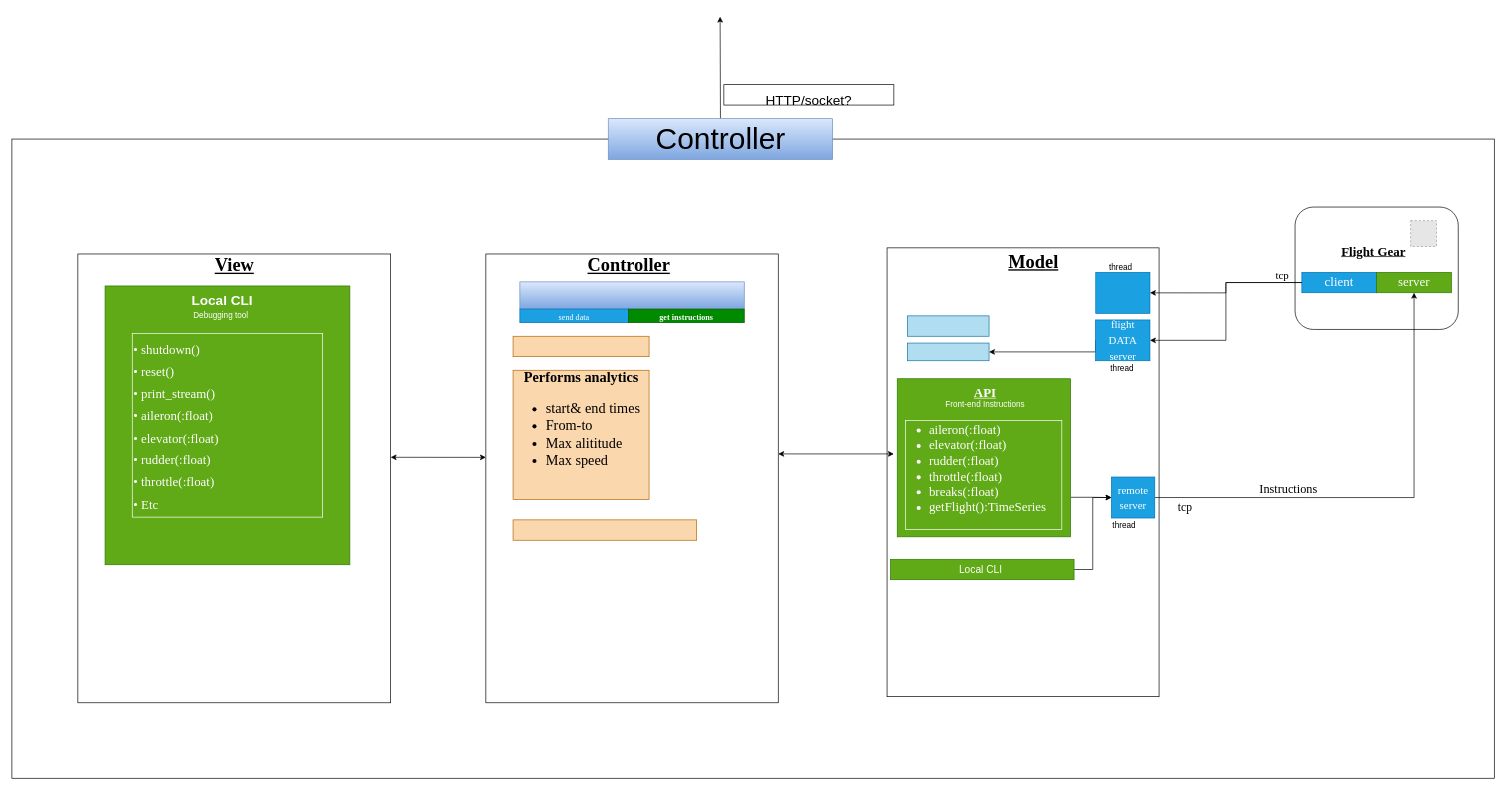
Image size: 1506x790. Some labels were removed from this diagram. Grey dashed boxes stand in for pictures. Here are the shapes that lost their labels. From the top down, the box of each, then its label:
(519, 281, 744, 309): Connection to the server
(1095, 272, 1150, 313): analytics server
(907, 315, 989, 336): Time Series
(512, 336, 649, 357): Streams flight data
(907, 342, 989, 361): Symbol table
(512, 519, 697, 540): Handles remote instructions
